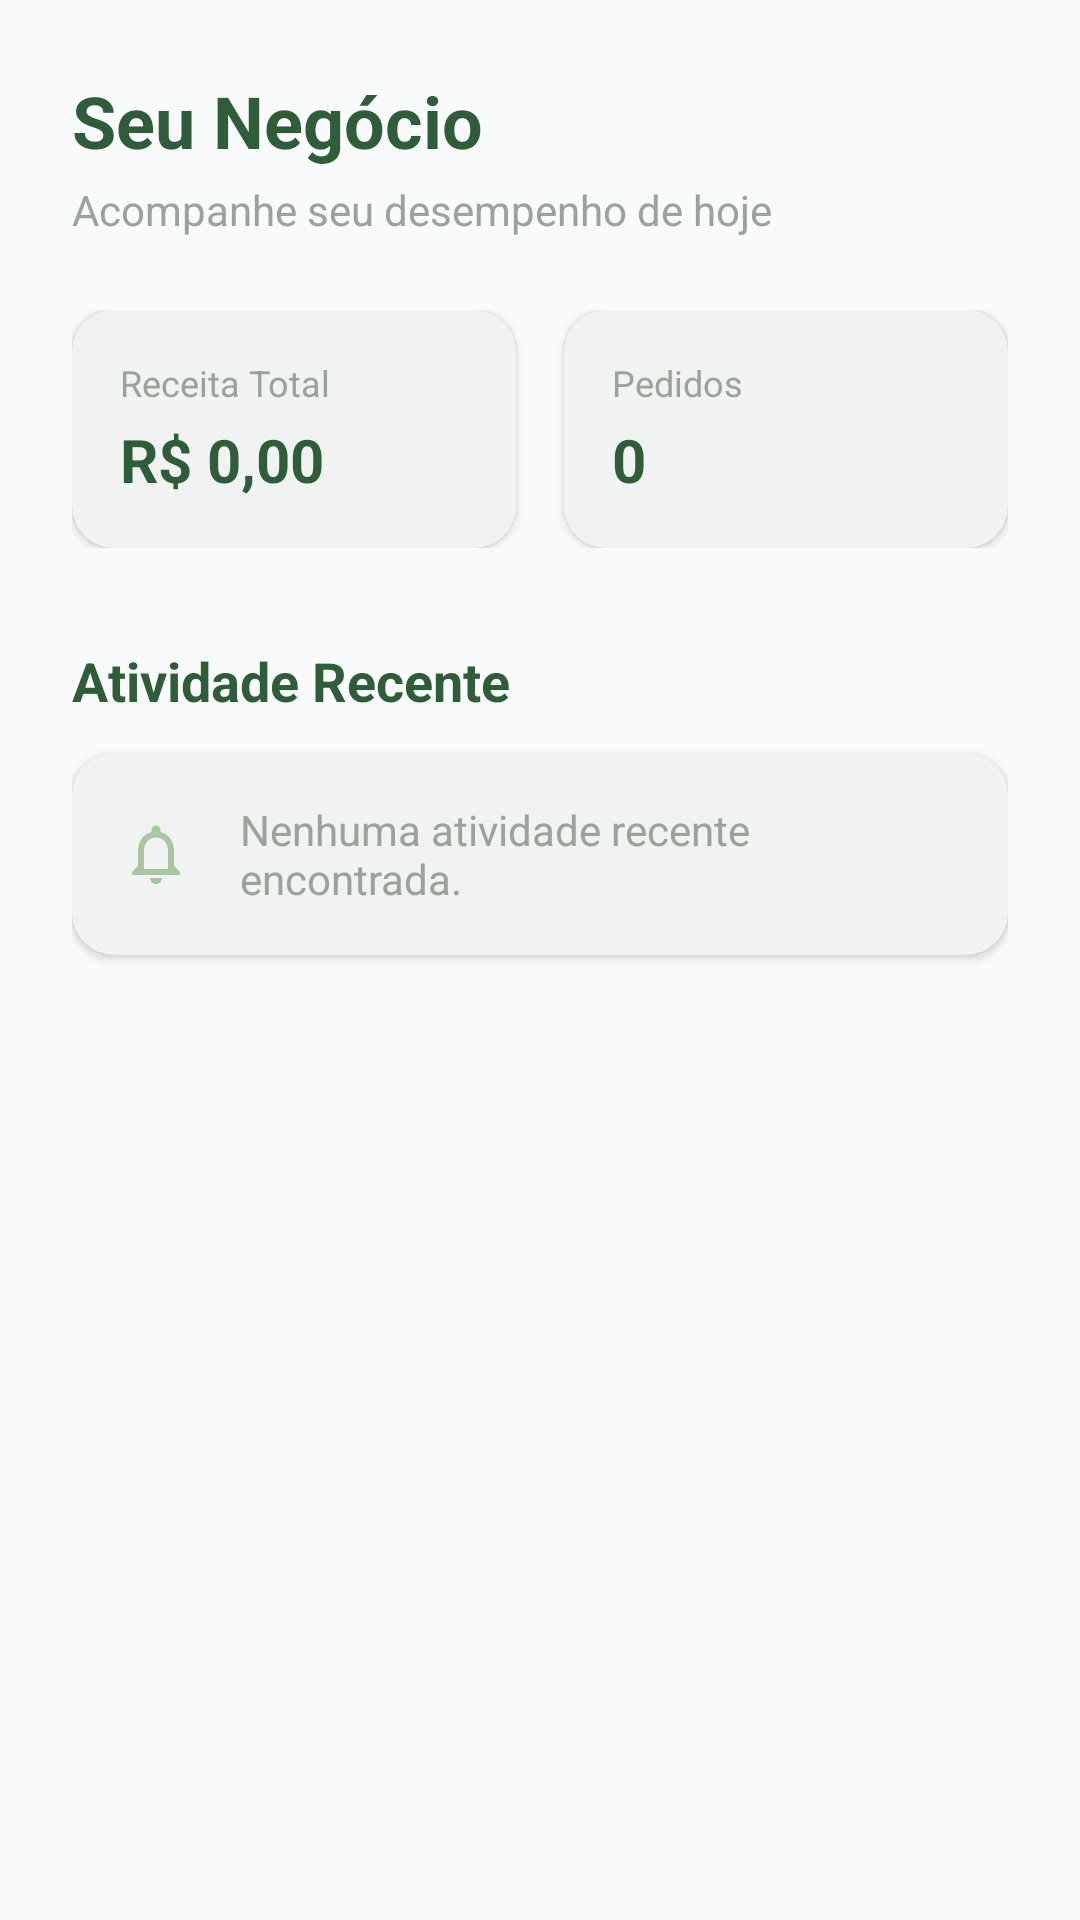

Screen size 1080px x 1920px. Icon name, then its center in pixels as (x,y):
notifications: (156,854)
